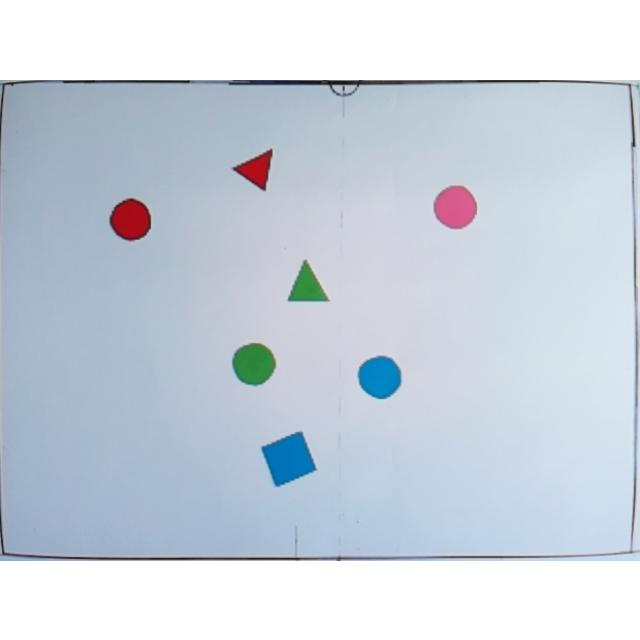blueCircle: (357, 353, 403, 399)
blueSquare: (263, 428, 317, 486)
greenCircle: (232, 341, 278, 385)
greenTriangle: (287, 258, 331, 302)
pinkCircle: (432, 182, 478, 228)
redCircle: (110, 196, 152, 240)
redTriangle: (232, 146, 272, 190)
